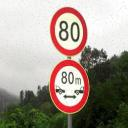speed_limit_80: (49, 6, 88, 55)
